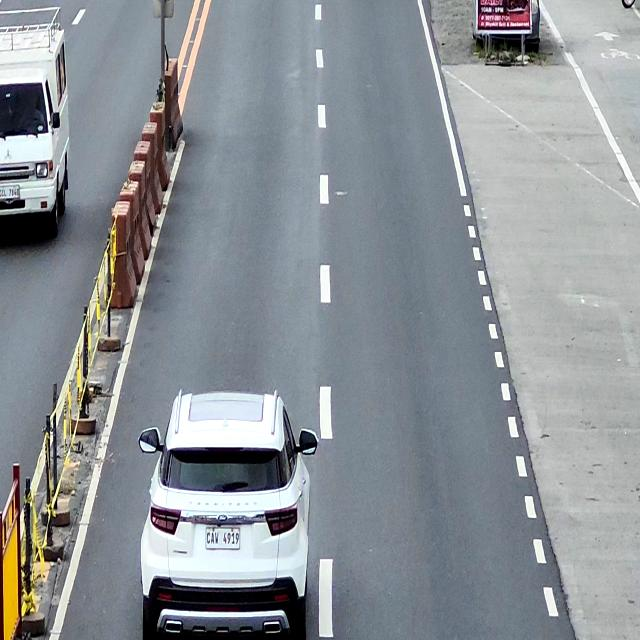Car: (139, 391, 319, 640), (0, 23, 69, 230)
License-Plate: (206, 528, 240, 550), (0, 184, 21, 200)
